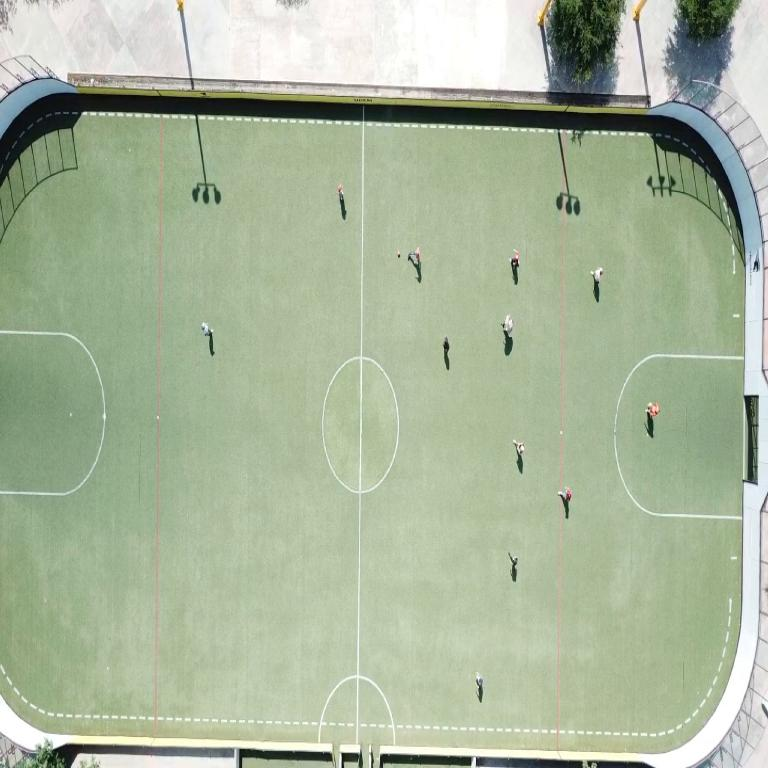AC: (614, 354, 743, 520), (0, 330, 106, 497)
B: (397, 251, 400, 257)
MC: (356, 106, 364, 741)
P: (502, 315, 514, 336), (408, 247, 420, 265), (646, 403, 659, 419), (558, 487, 571, 502), (591, 267, 603, 283), (510, 250, 520, 268), (513, 440, 524, 456), (476, 674, 483, 696), (201, 323, 212, 335), (509, 553, 517, 569), (443, 336, 449, 354), (338, 185, 343, 201)
